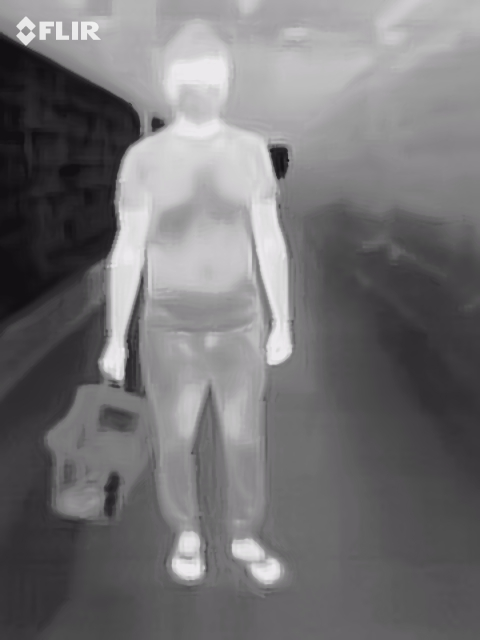head: (161, 23, 232, 128)
